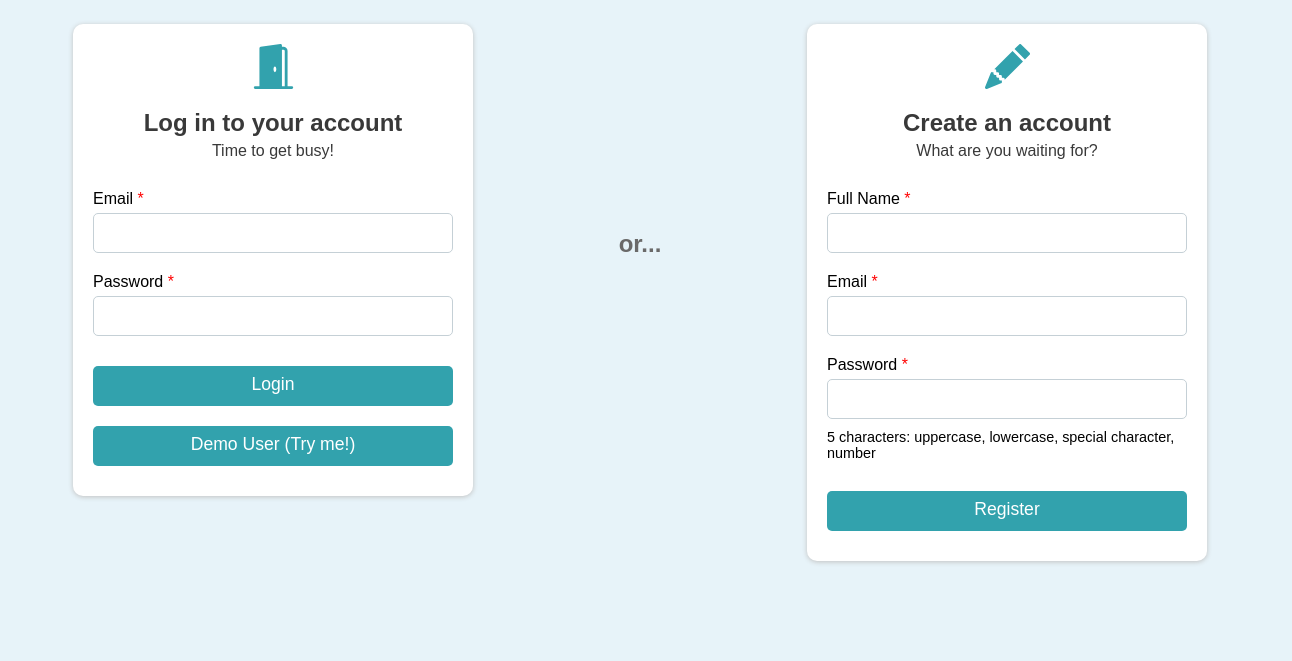
Test: lists › sets no lists after fetch if no lists
(page scrolled)
Click the button "Demo User (Try me!)".
click(273, 446)  # box [93,426,453,466]
(page scrolled)
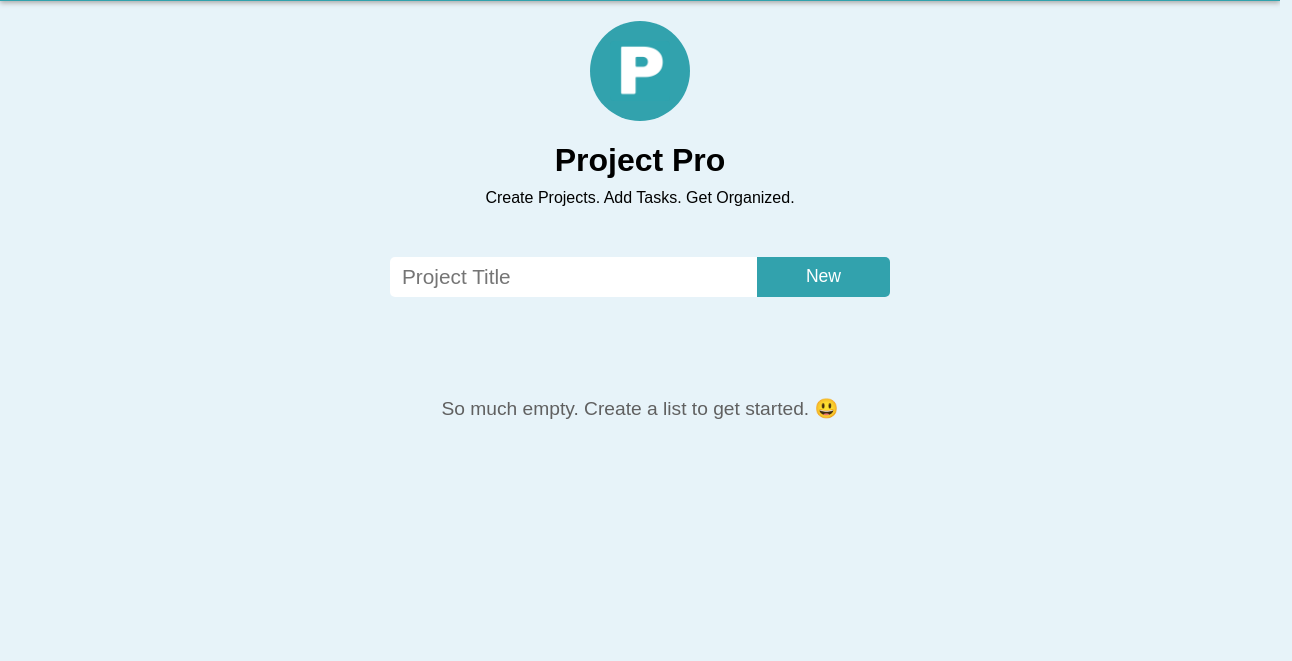
Now the text "So much empty. Create a list to get started. 😃" is shown, box [442,397,838,420]
